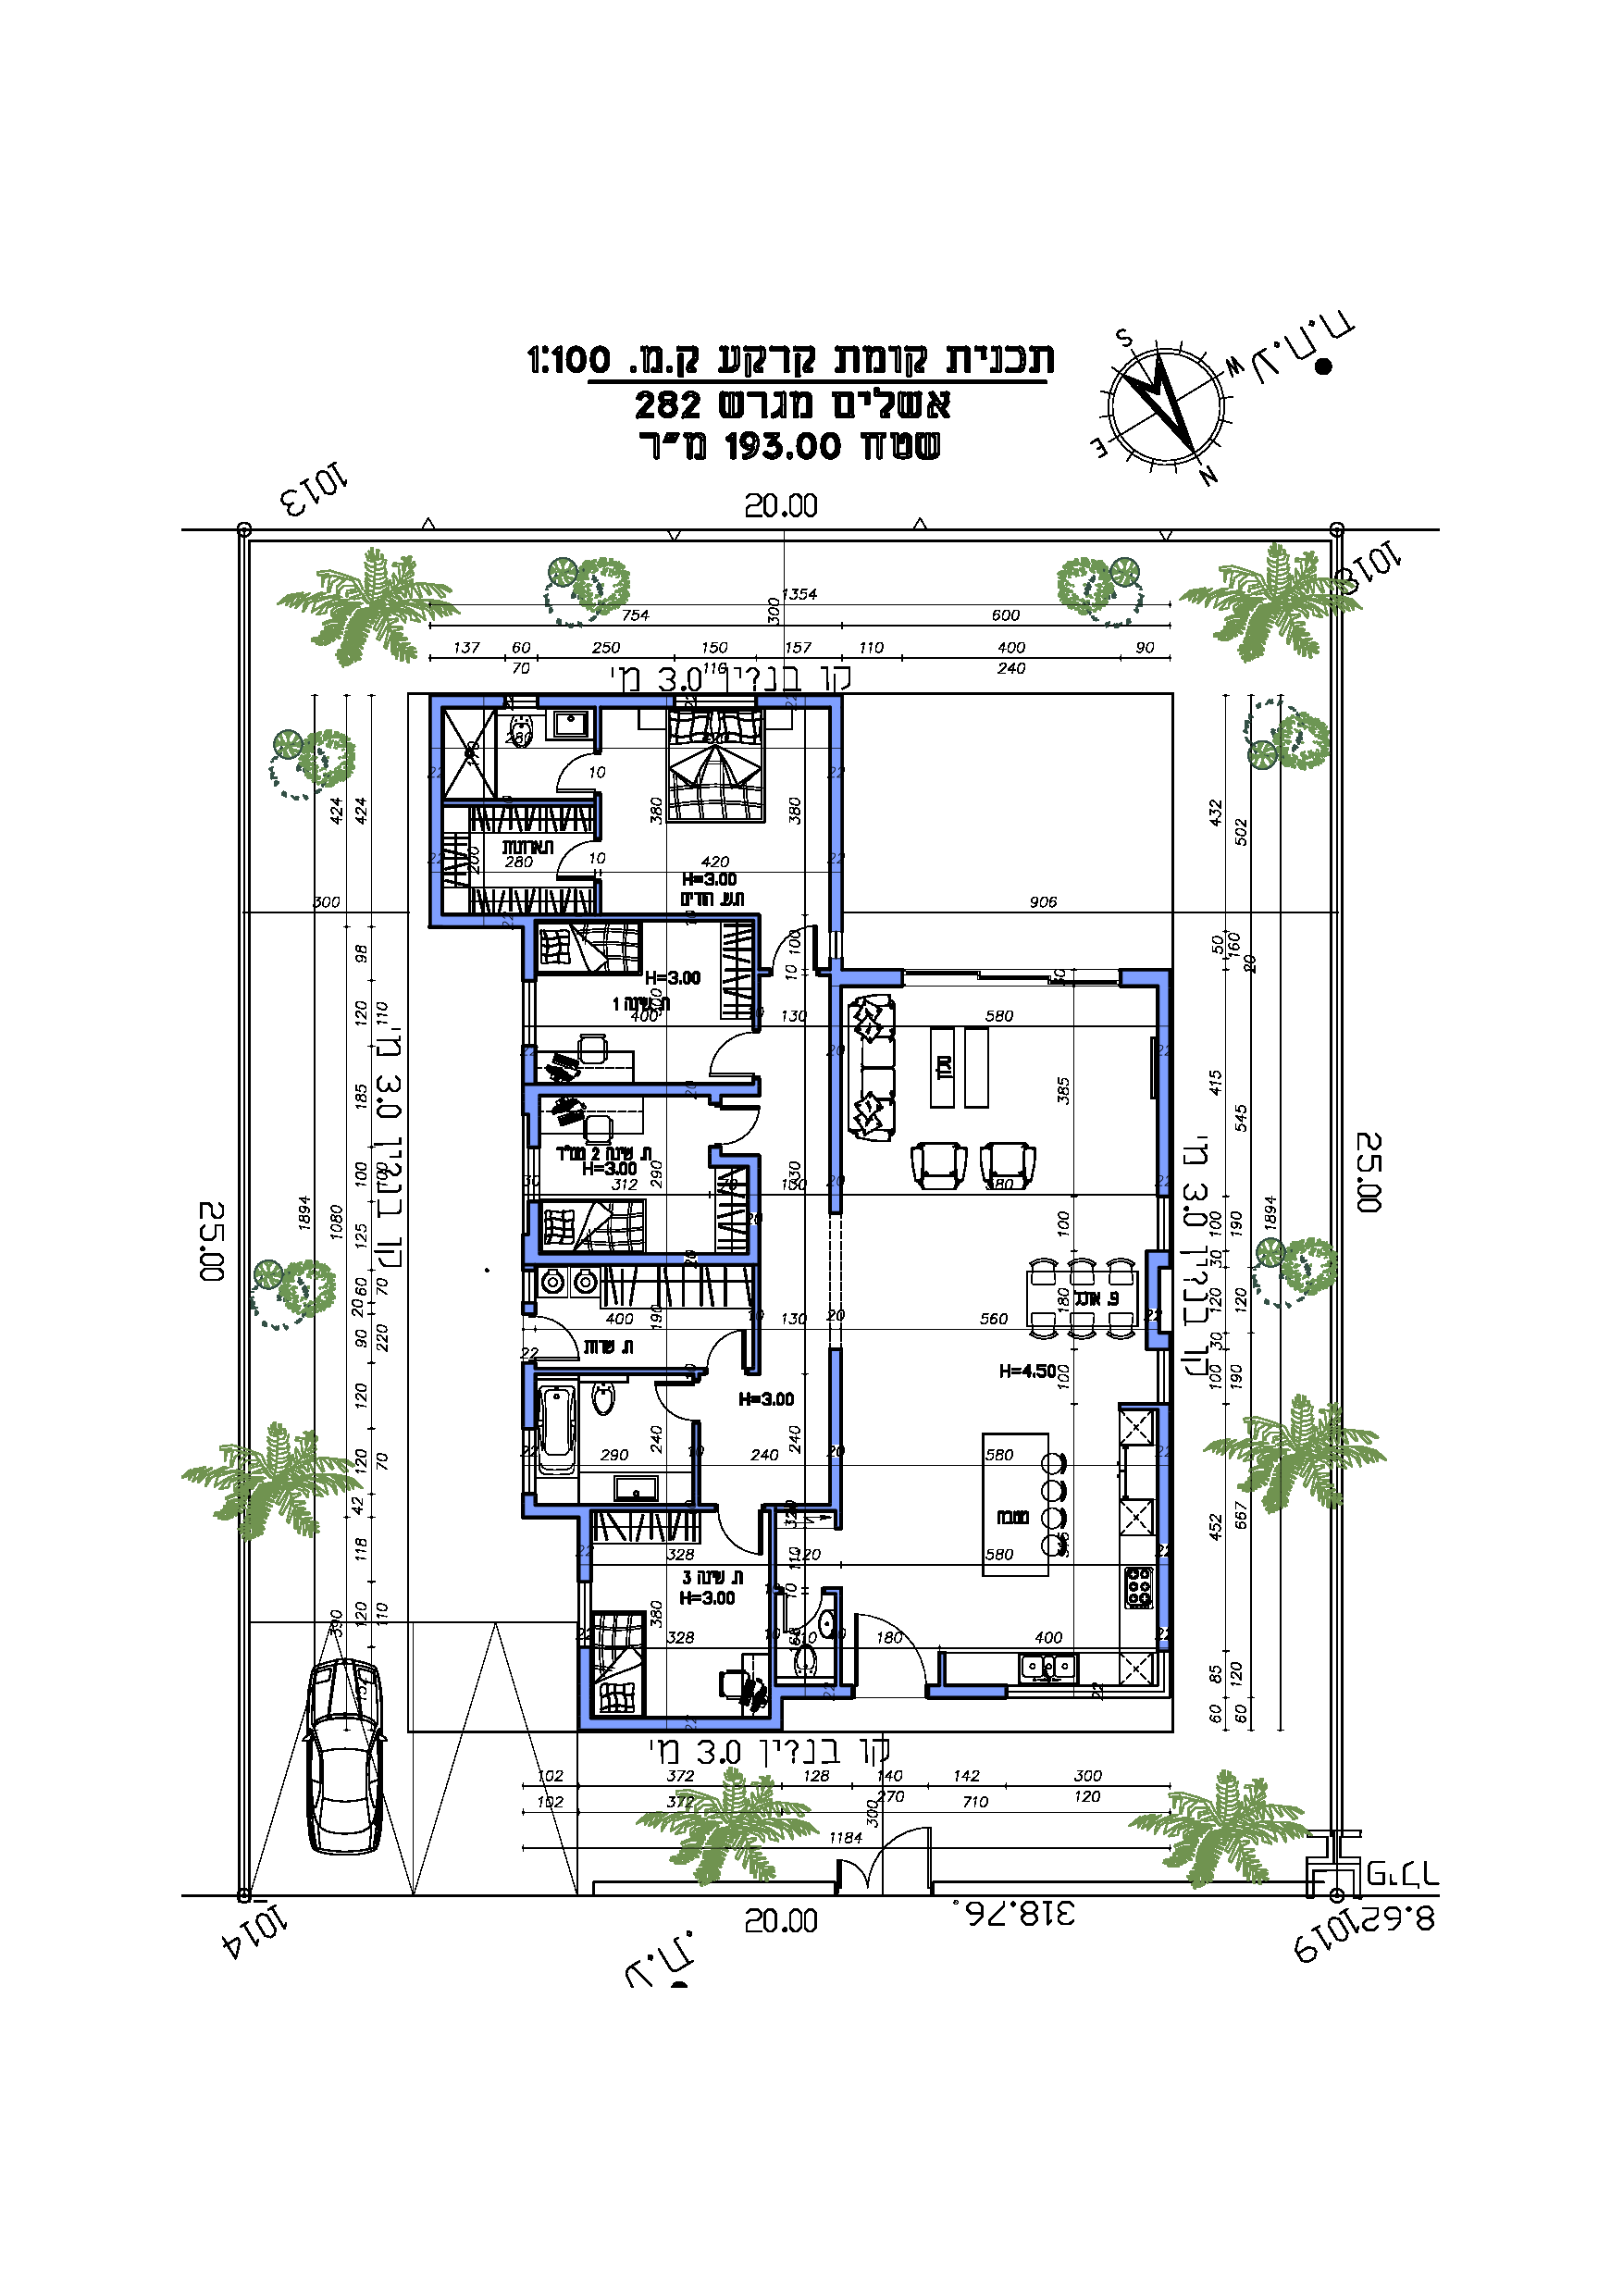door: (701, 1022, 752, 1082), (711, 1516, 773, 1565), (724, 1100, 769, 1149), (548, 747, 588, 794), (710, 1328, 745, 1374)
